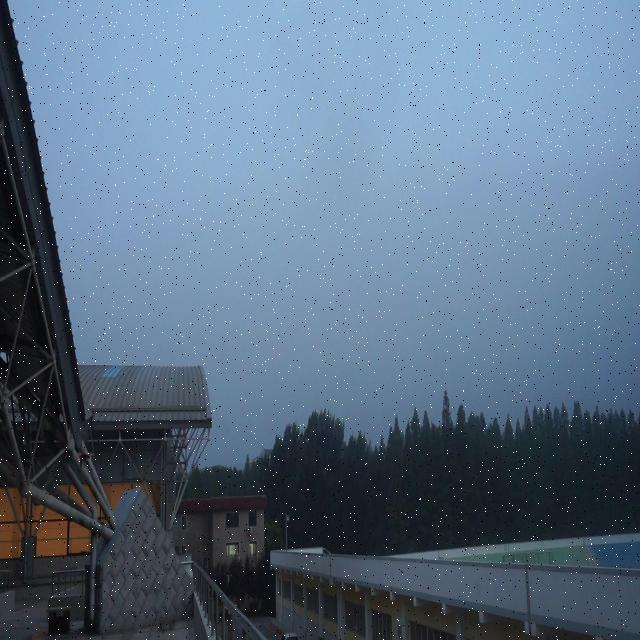UAV: (73, 452, 95, 468)
